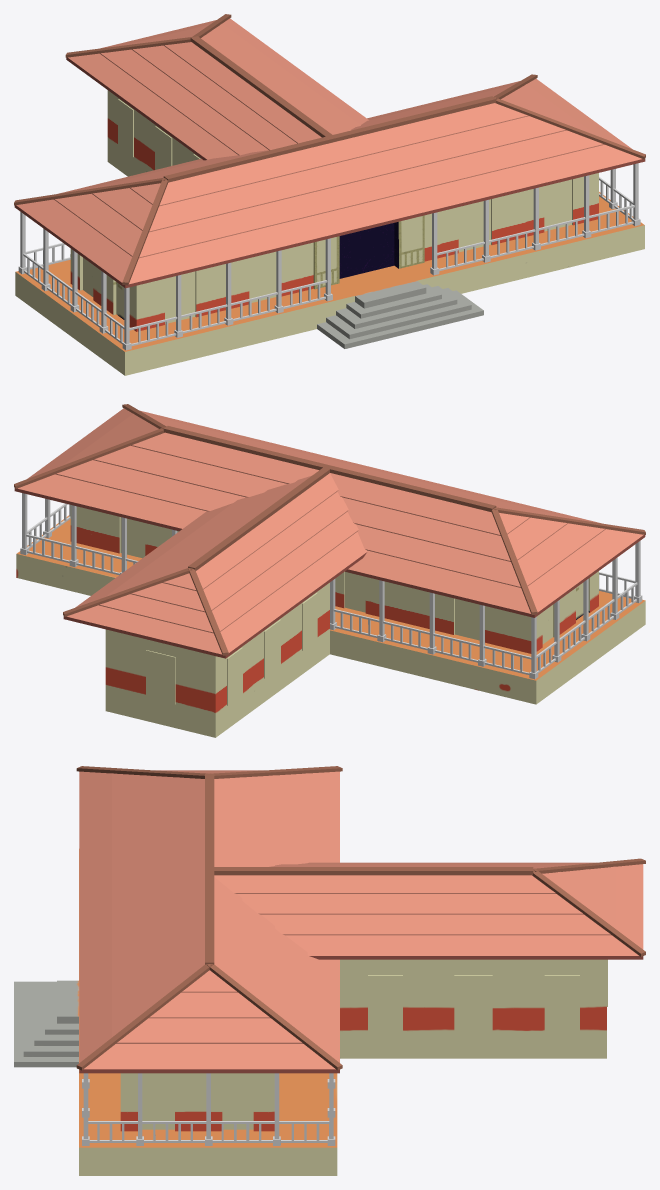
Rendered from casacasa_unity.fbx.
3 views of the same model, one above another, from view 1: azimuth 30°, elevation 25°; view 2: azimuth 150°, elevation 25°; view 3: azimuth 270°, elevation 25° (orthographic). The views are drawn at different scales.
Parts seen in each view (by area): view 1: Techo_Teja, pCube1, Techo_Caballete, pCube8, pCube7, Techo_Alero, pCube11, pCube10, pCube12; view 2: Techo_Teja, pCube1, Techo_Caballete, pCube10, Techo_Alero, pCube11, pCube9, pCube12, pCube7; view 3: Techo_Teja, pCube1, Techo_Caballete, pCube12, Techo_Alero.
Part boxes in pixels (x1,y1,x2,y2): Techo_Teja: [16, 18, 641, 284]; pCube1: [15, 90, 644, 375]; Techo_Caballete: [14, 14, 645, 285]; pCube8: [430, 163, 640, 275]; pCube7: [122, 238, 332, 350]; Techo_Alero: [14, 57, 645, 288]; pCube11: [23, 228, 124, 344]; pCube10: [18, 212, 70, 274]; pCube12: [599, 169, 633, 219]; Techo_Teja: [18, 408, 643, 654]; pCube1: [16, 505, 645, 737]; Techo_Caballete: [14, 404, 645, 655]; pCube10: [330, 579, 538, 679]; Techo_Alero: [14, 488, 645, 658]; pCube11: [536, 557, 637, 672]; pCube9: [20, 493, 177, 575]; pCube12: [27, 498, 70, 548]; pCube7: [599, 540, 642, 602]; Techo_Teja: [79, 770, 643, 1069]; pCube1: [14, 849, 607, 1175]; Techo_Caballete: [76, 766, 645, 1070]; pCube12: [88, 1073, 329, 1145]; Techo_Alero: [79, 956, 643, 1073].
Bounding box in the file's own units: 13.02 × 3.19 × 11.54.
6 materials, 5 textured.
